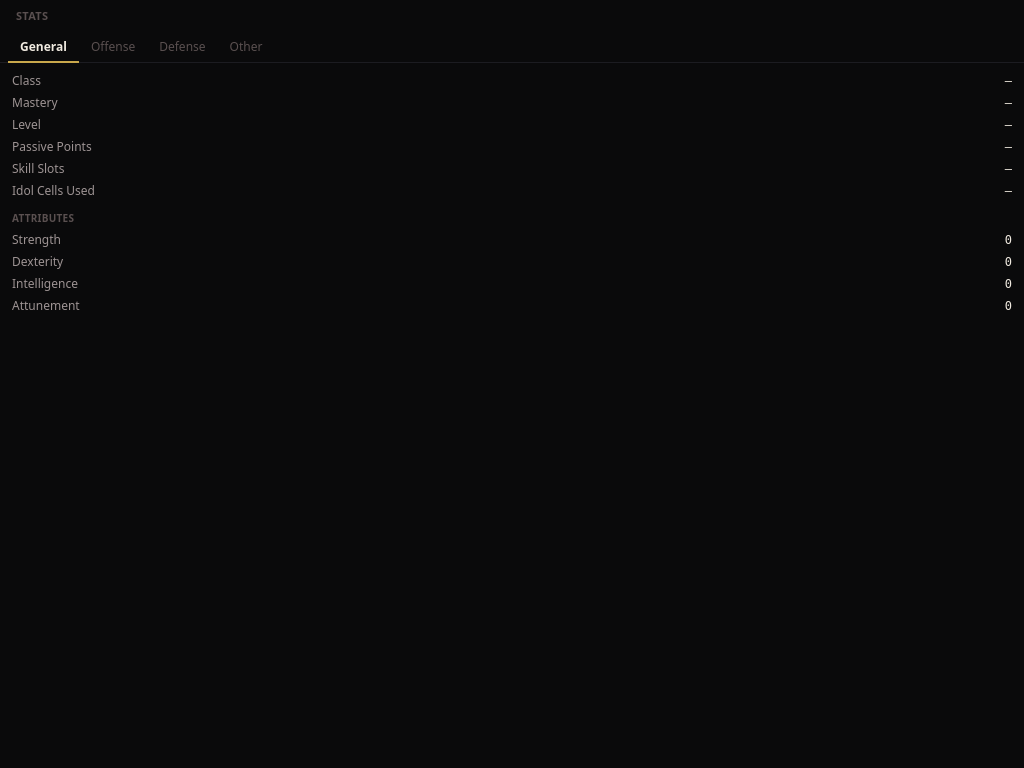
it: StatSheetPanel › shows negative delta on Defense stat when previewStatSheet has lower effective_hp
Click the tab "Defense" at (182, 48), box x1=147 y1=32 x2=218 y2=62
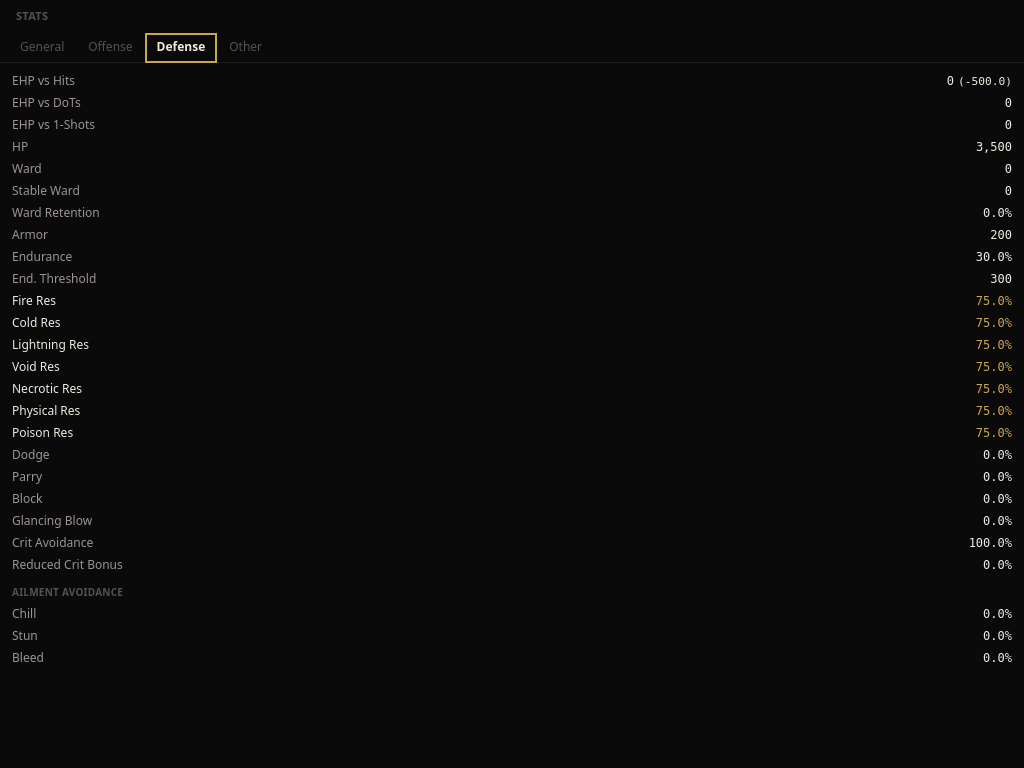
Expected: the text "(-500.0)" is shown, x1=958 y1=74 x2=1012 y2=88
